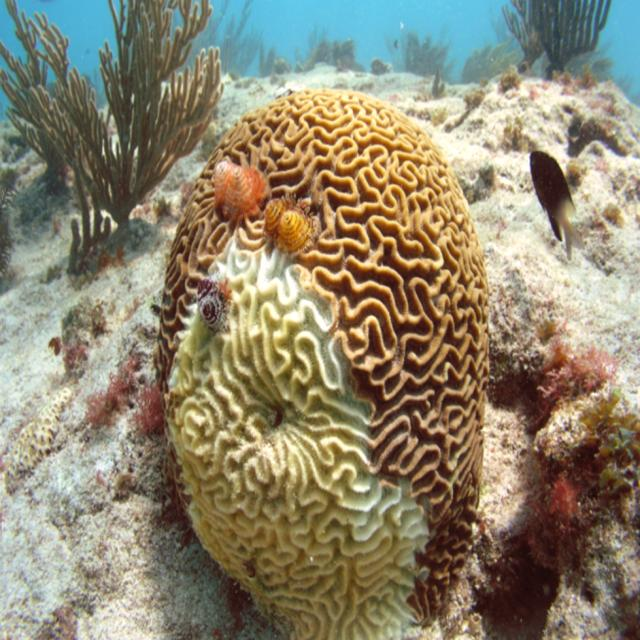Coral: (153, 90, 491, 640), (0, 0, 225, 226), (502, 0, 614, 77), (68, 158, 110, 272)
